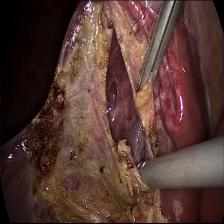Grasper: (136, 0, 186, 92)
Irrigator: (130, 152, 160, 191)
